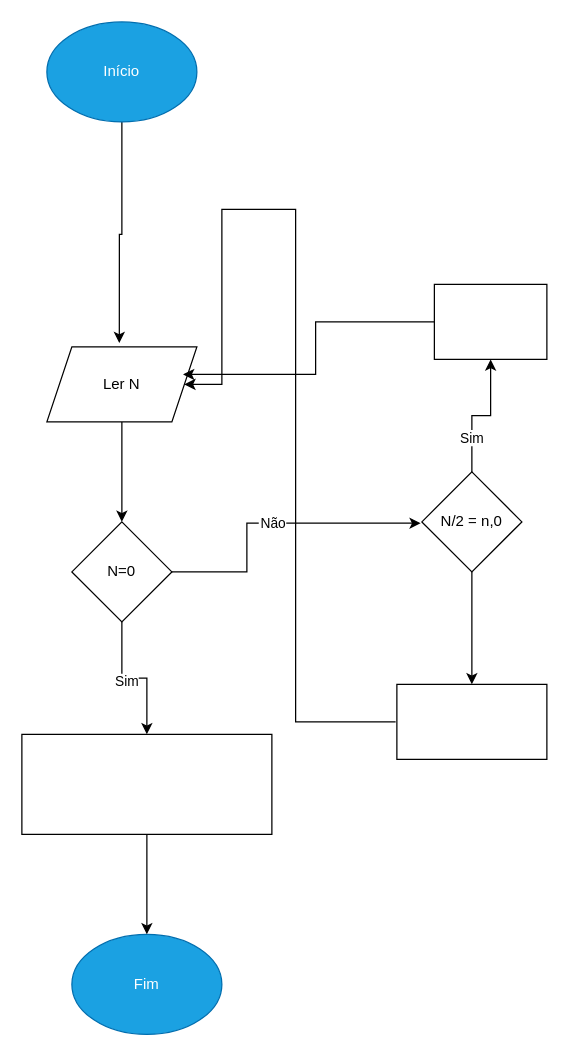
Some shapes in this 569 by 1056 pixel diagram are drawn without their labels. The shapes that lost their labels are listed below. From the top down, each one's centre as x and y in pixels, then its label:
At point 490,321: "Escrever: Ímpar".
At point 471,721: "Escrever: Par".
At point 146,783: "Escrever: Digitou 0 - Vai sair do programa".
